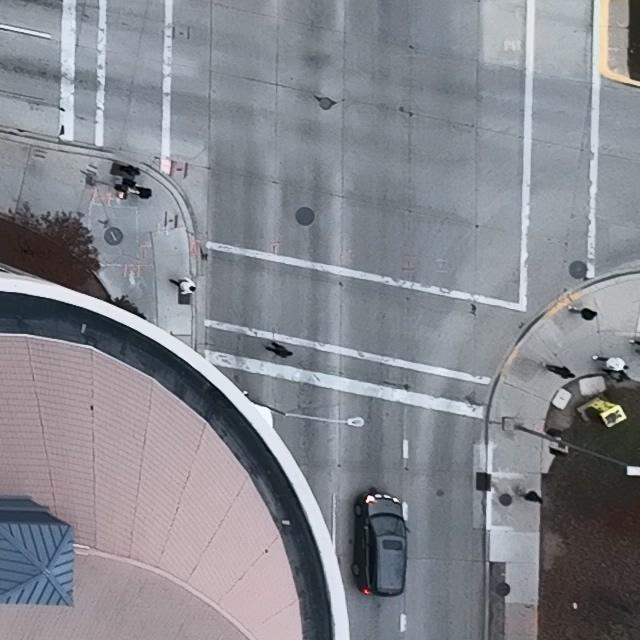car: (354, 491, 410, 595)
